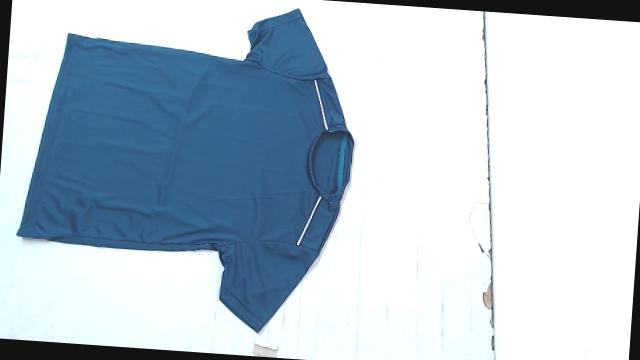new-garment: (16, 9, 353, 332)
